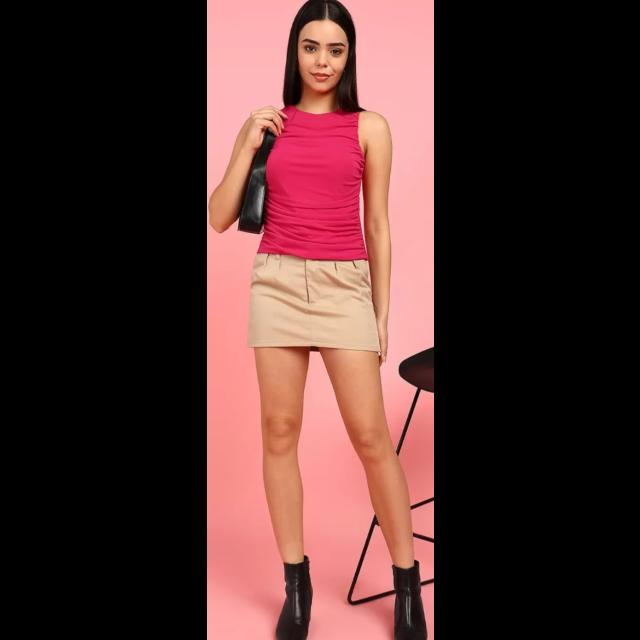bottom: (246, 255, 386, 368)
handbag: (238, 125, 272, 237)
shoes: (276, 558, 316, 640), (385, 568, 425, 640)
top: (254, 102, 372, 274)
